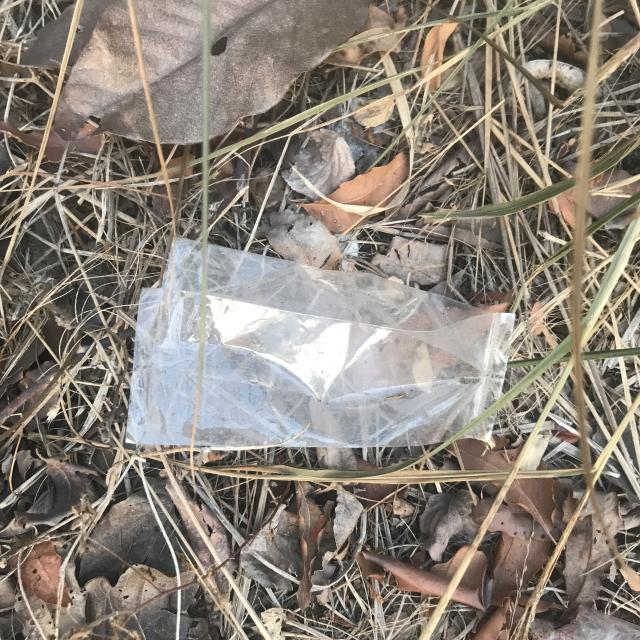Single-layer Plastic: (127, 233, 525, 455)
